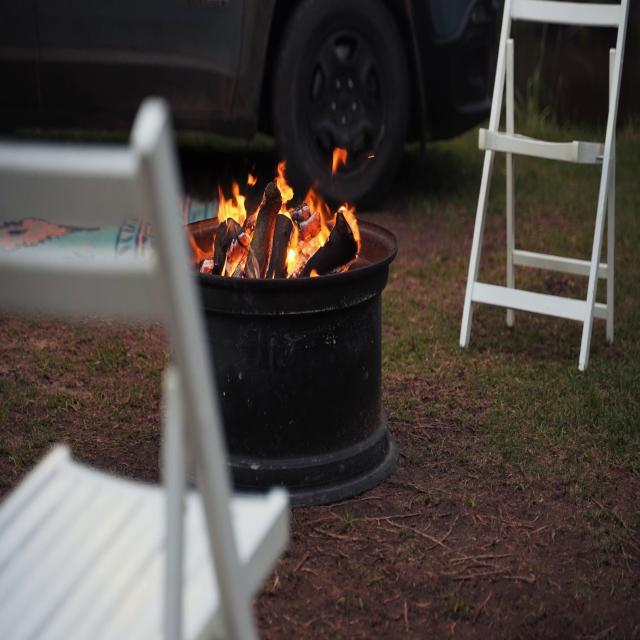Fire: (208, 157, 360, 276)
